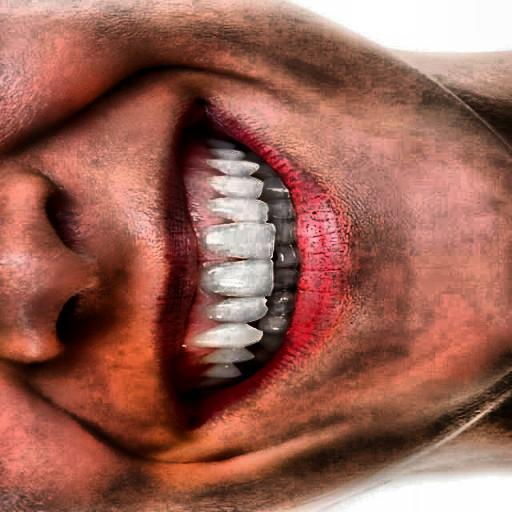Healthy: (176, 158, 354, 364)
